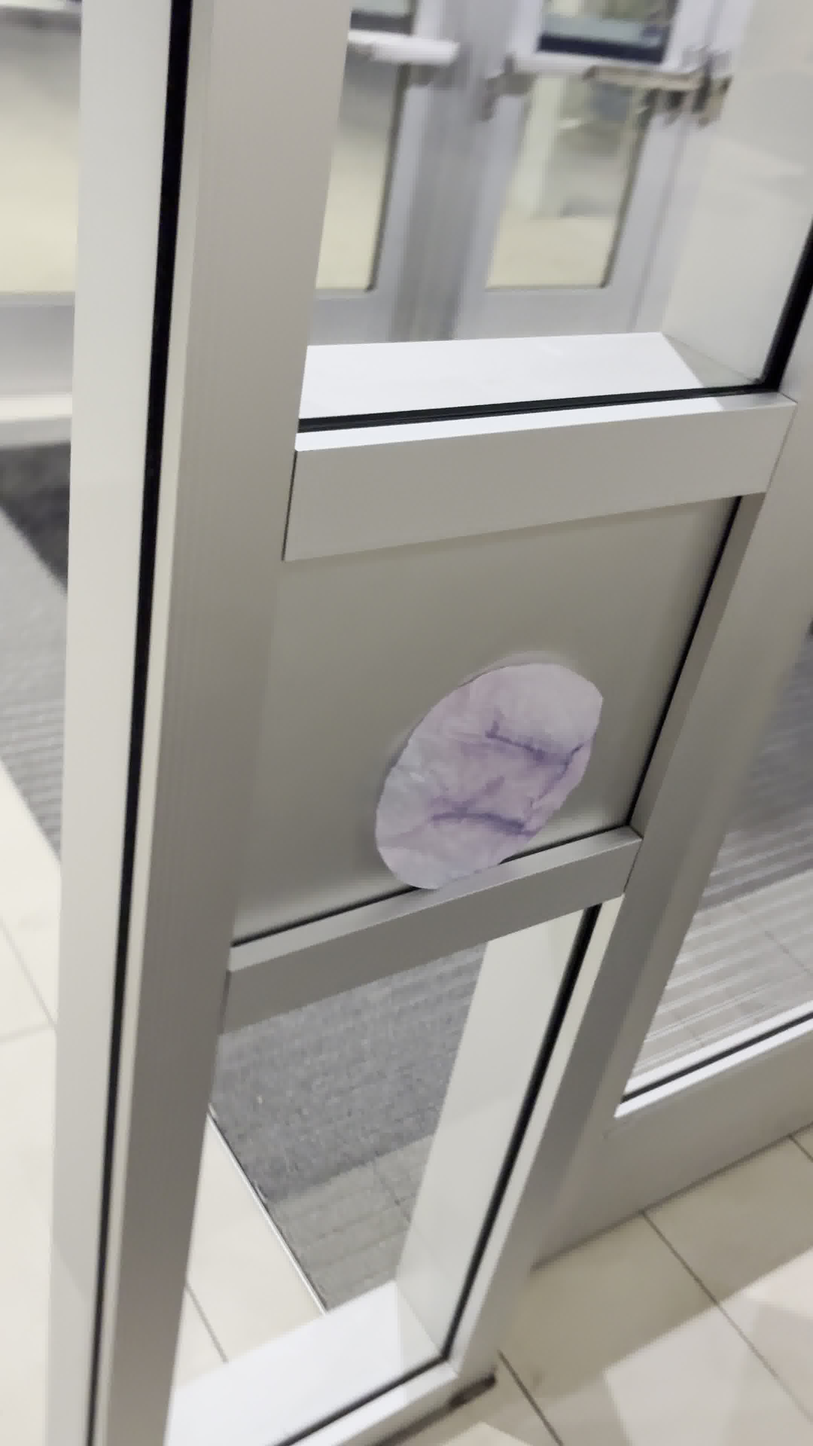Target: (371, 661, 606, 891)
